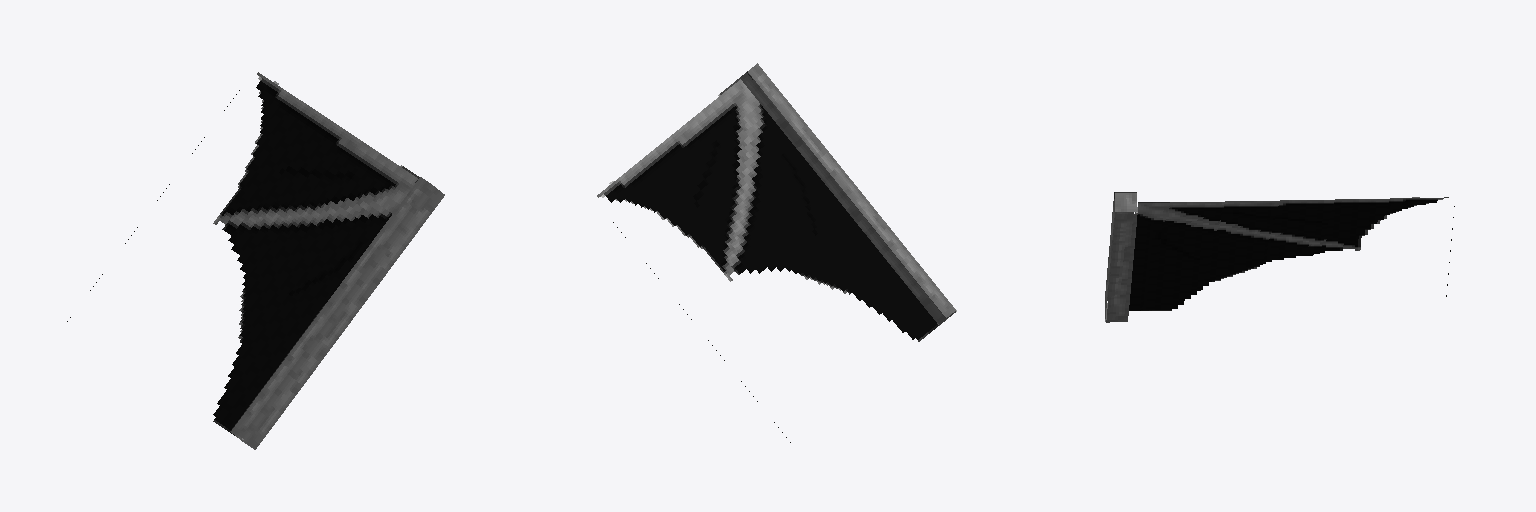
The picture shows the model from 3 angles: view 1: azimuth 30°, elevation 25°; view 2: azimuth 150°, elevation 25°; view 3: azimuth 270°, elevation 25°; orthographic projection.
Parts seen in each view (by area): view 1: Enderdragon_Malla; view 2: Enderdragon_Malla; view 3: Enderdragon_Malla.
Part boxes in pixels (left/top/right/bottom): Enderdragon_Malla: left=67, top=72, right=444, bottom=449; Enderdragon_Malla: left=597, top=63, right=956, bottom=442; Enderdragon_Malla: left=1105, top=192, right=1454, bottom=322.
Size of the model in its own units: 6.93 by 6.74 by 9.81.
Materials: 1 (1 with a texture image).